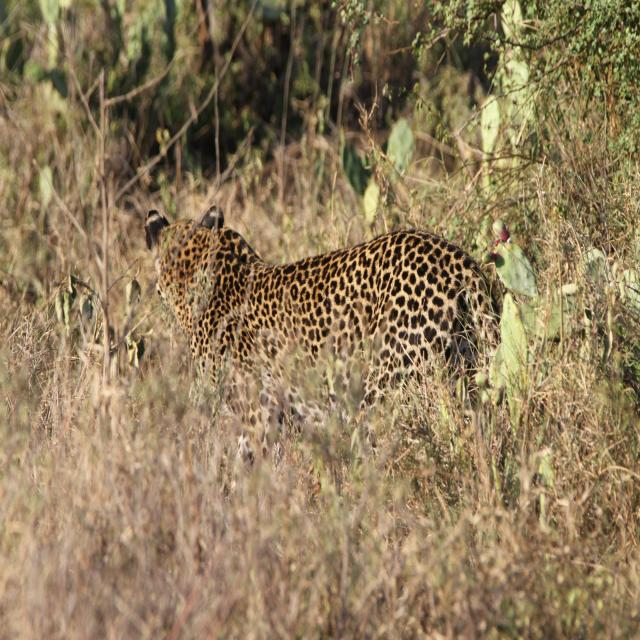Leopard: (135, 205, 542, 473)
